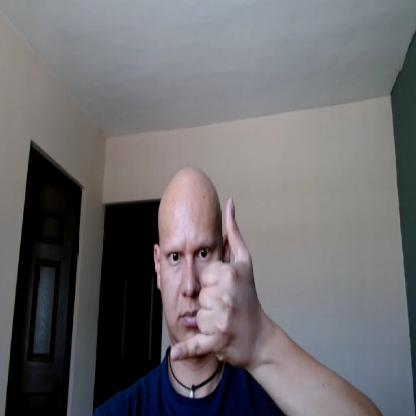Y: (171, 196, 254, 363)
